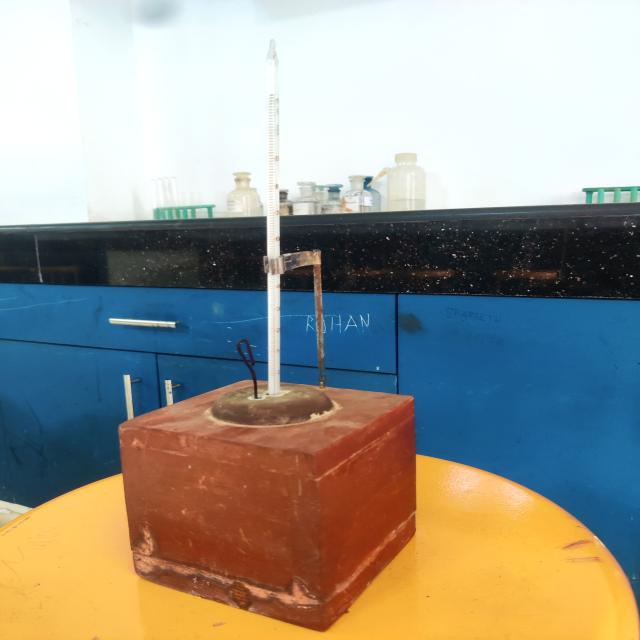Calorimeter: (79, 25, 462, 638)
